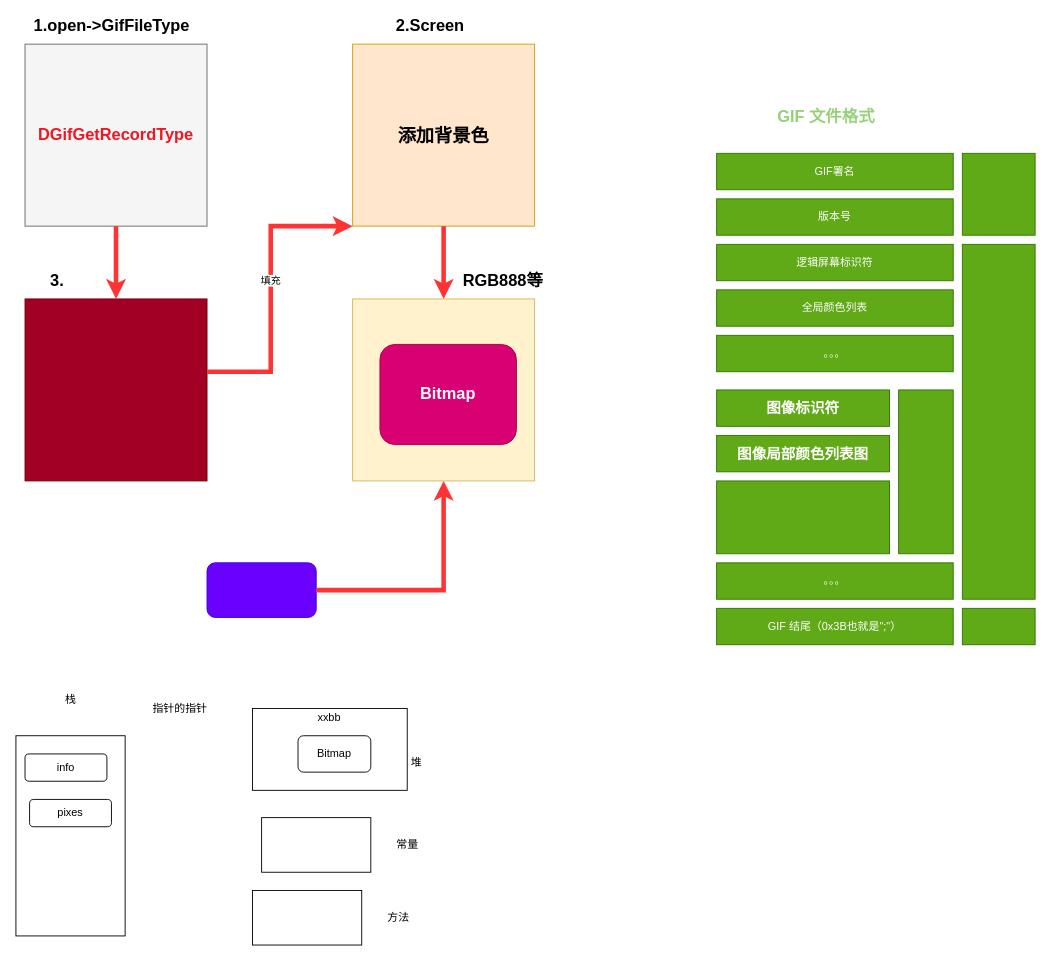
Some shapes in this 1051 by 961 pixel diagram are drawn without their labels. Here are the shapes that lost their labels. From the top down, the box of each, then its label:
(961, 152, 1035, 235): 文件头
(24, 298, 207, 481): 1.ctrol 2.Ext 3.Data
(961, 243, 1035, 599): GIF数据流
(898, 389, 953, 554): 图像块
(716, 480, 890, 554): 基于颜色列表的图像数据
(206, 562, 316, 617): Java
(961, 607, 1035, 645): 文件尾
